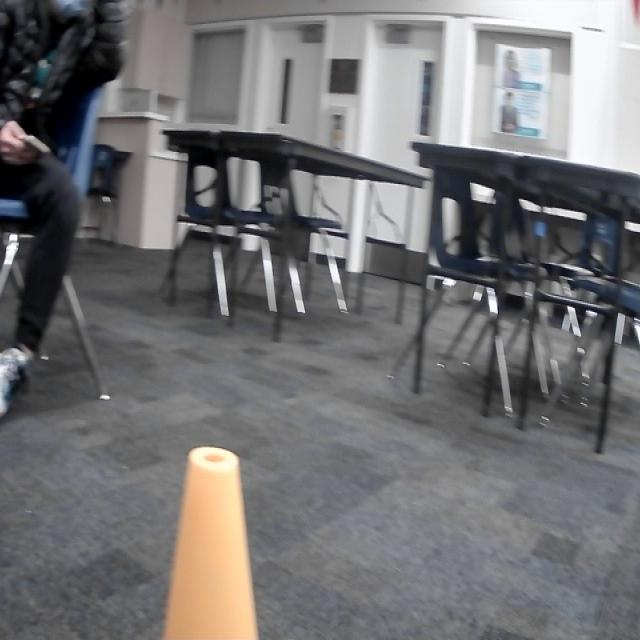cone: (154, 442, 264, 640)
